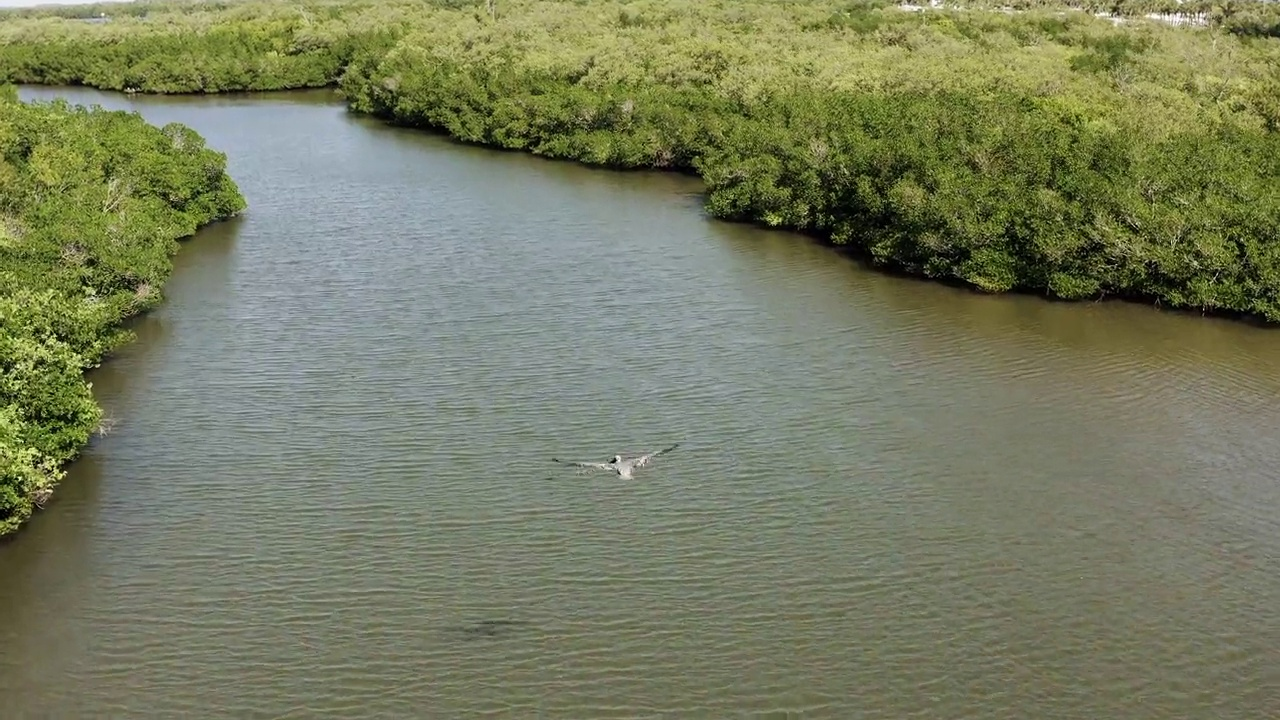bird: (550, 446, 678, 480)
